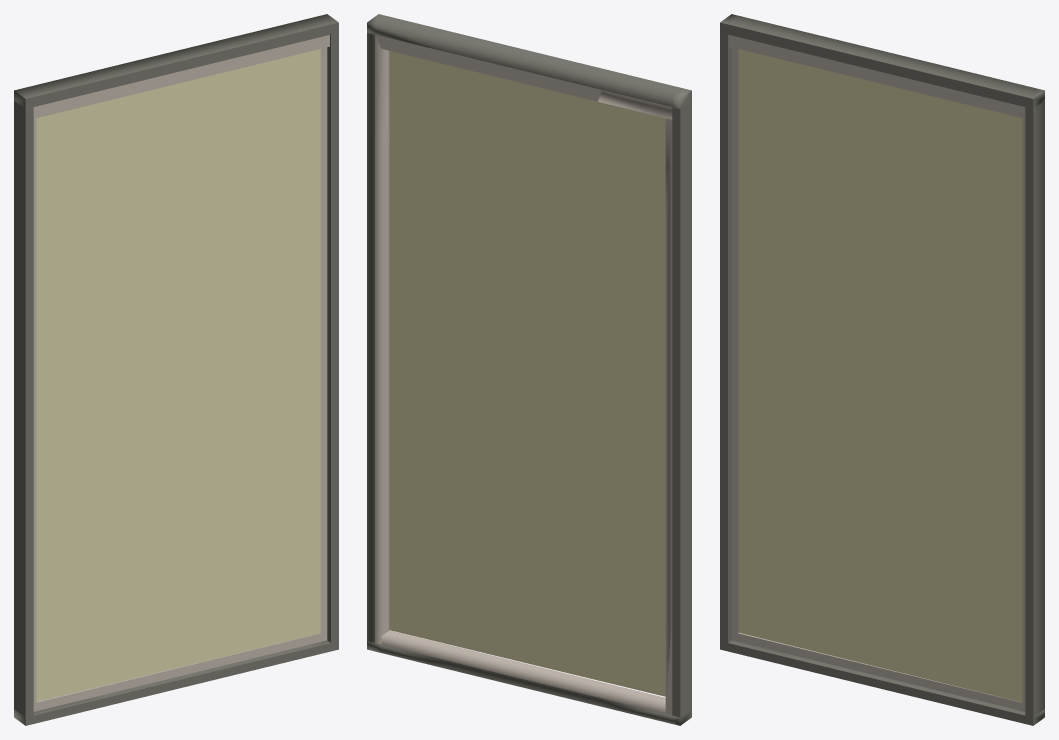
Rendered from Porte_S_Bobine.glb.
3 renders of one model, left to right at view 1: azimuth 30°, elevation 25°; view 2: azimuth 150°, elevation 25°; view 3: azimuth 330°, elevation 25°, orthographic.
Parts seen in each view (by area): view 1: Porte; view 2: Porte; view 3: Porte.
Boxes of the visible parts, left/top/right/bottom form: Porte: left=14, top=14, right=338, bottom=725; Porte: left=367, top=14, right=691, bottom=725; Porte: left=720, top=14, right=1044, bottom=725.
Bounding box in the file's own units: 0.853 × 1.63 × 0.055.
